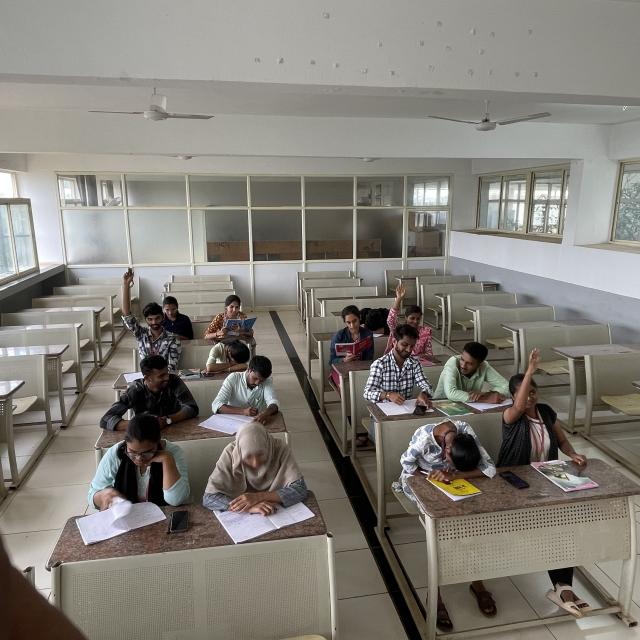Hand Rising: (494, 344, 592, 455), (118, 263, 178, 357), (378, 270, 434, 342)
Reading: (72, 412, 192, 514), (190, 281, 266, 340), (320, 298, 378, 361)
Sleeping: (388, 402, 502, 474), (198, 332, 270, 380), (359, 294, 394, 341)
Using Phone: (365, 328, 434, 417)
Writing: (204, 351, 294, 430), (429, 334, 510, 406)
